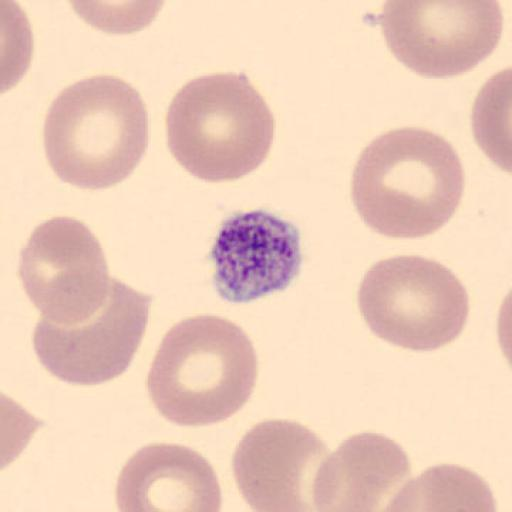Platelet: (205, 206, 308, 306)
RBC: (349, 124, 467, 243), (30, 275, 152, 388), (41, 71, 152, 193), (164, 69, 278, 185), (146, 312, 259, 428), (355, 252, 471, 355), (16, 214, 111, 326), (378, 0, 504, 80), (230, 416, 332, 512), (311, 430, 413, 512), (113, 438, 223, 512), (374, 461, 498, 512), (471, 64, 512, 178), (65, 0, 170, 37), (1, 0, 35, 97), (1, 390, 40, 472), (2, 392, 26, 473), (493, 280, 512, 378), (495, 290, 512, 370)
